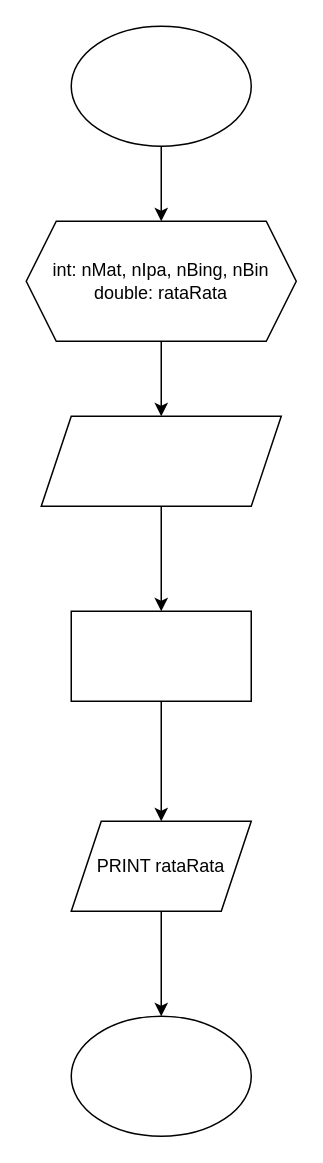
The diagram is 323 pixels wide and 1163 high, and some of its shapes have lost their labels. The box of each missing label's shape, as (x1, y1, x2, y2) in pixels:
nMat, nIpa, nBing, nBin: (40, 415, 281, 506)
rataRata=(nMat+nIpa)/4: (70, 610, 251, 701)
